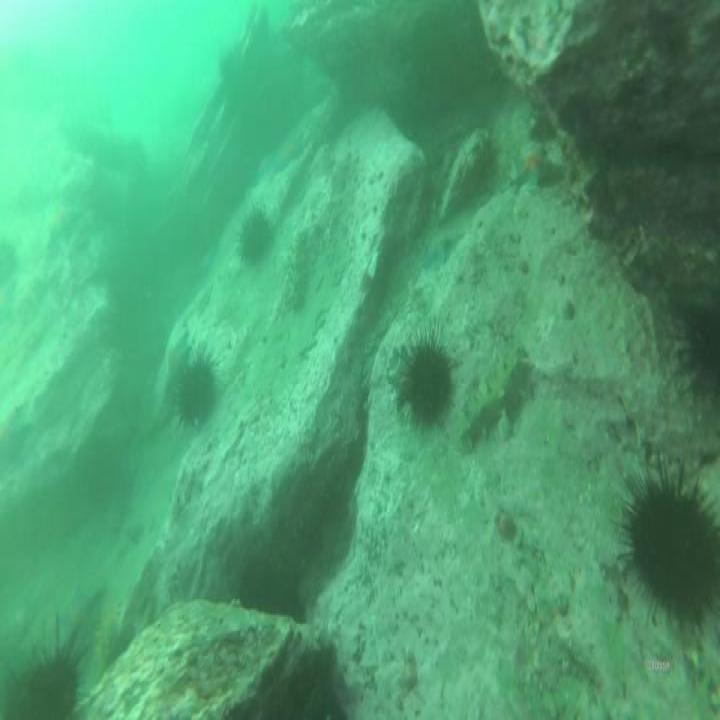echinus: (632, 482, 720, 620), (403, 341, 449, 427), (32, 652, 78, 720), (175, 361, 217, 427), (238, 208, 271, 263)
holothurian: (462, 346, 528, 452), (285, 231, 309, 309)
starfish: (513, 151, 563, 192), (422, 229, 457, 268)
